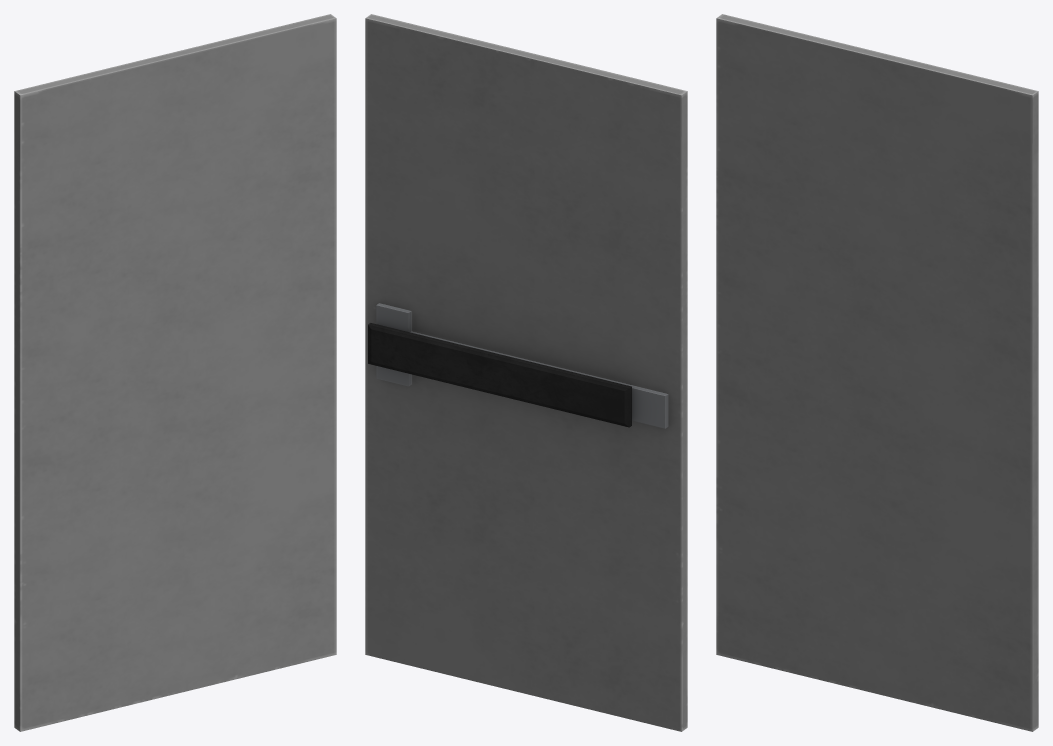
File: Metal Door.fbx
3 views of the same model, side by side, from view 1: azimuth 30°, elevation 25°; view 2: azimuth 150°, elevation 25°; view 3: azimuth 330°, elevation 25° (orthographic).
Parts seen in each view (by area): view 1: MetalDoor; view 2: MetalDoor; view 3: MetalDoor.
Boxes of the visible parts, x1,y1,x2,y2 form: MetalDoor: (14, 14, 336, 731); MetalDoor: (365, 14, 687, 731); MetalDoor: (716, 14, 1038, 731).
Bounding box in the file's own units: 159 × 305 × 11.87.
